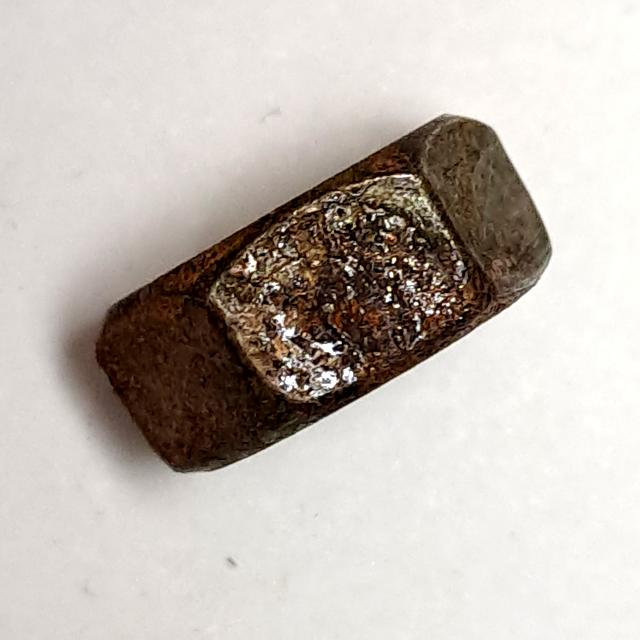Side_Rust: (83, 109, 570, 489)
